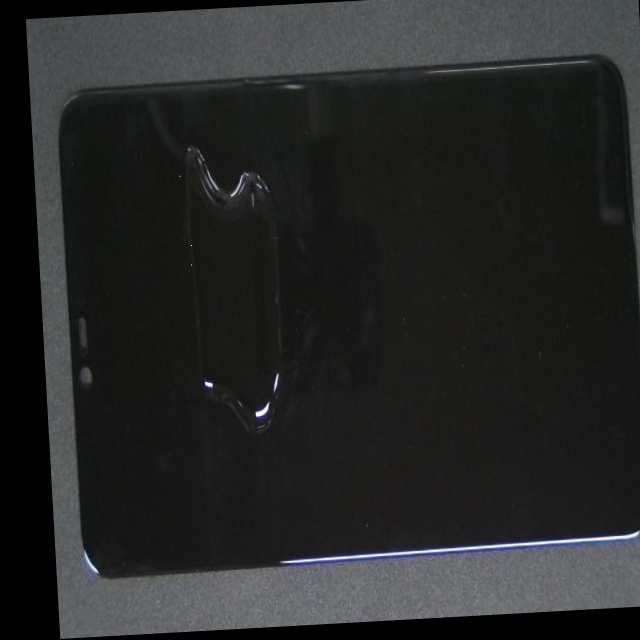oil: (149, 76, 342, 269)
